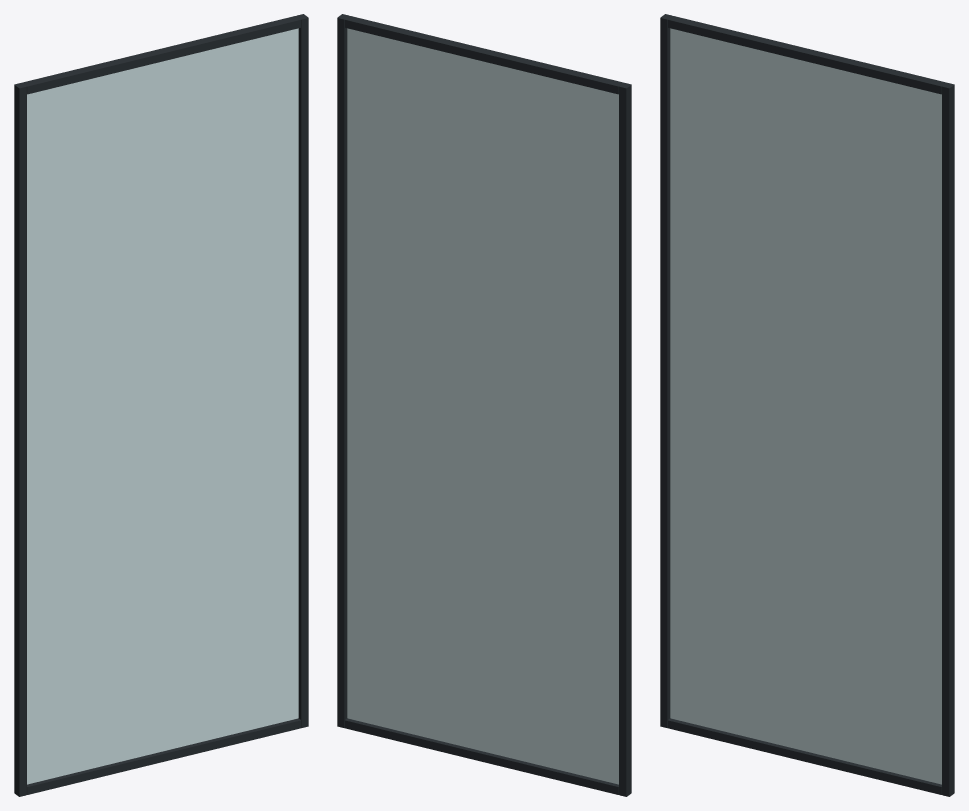
File: black-trim-clear-shower-screen-09.glb
3 renders of one model, left to right at view 1: azimuth 30°, elevation 25°; view 2: azimuth 150°, elevation 25°; view 3: azimuth 330°, elevation 25°, orthographic.
Visible parts, largest first — view 1: Fixed shower screen, Fixed shower screen frame; view 2: Fixed shower screen, Fixed shower screen frame; view 3: Fixed shower screen, Fixed shower screen frame.
Part boxes in pixels (bbox=[...]): Fixed shower screen: bbox=[27, 28, 298, 784]; Fixed shower screen frame: bbox=[14, 14, 308, 796]; Fixed shower screen: bbox=[347, 28, 618, 784]; Fixed shower screen frame: bbox=[337, 14, 631, 796]; Fixed shower screen: bbox=[670, 28, 941, 784]; Fixed shower screen frame: bbox=[660, 14, 954, 796].
Size of the model in its own units: 0.874 by 2.04 by 0.028.
